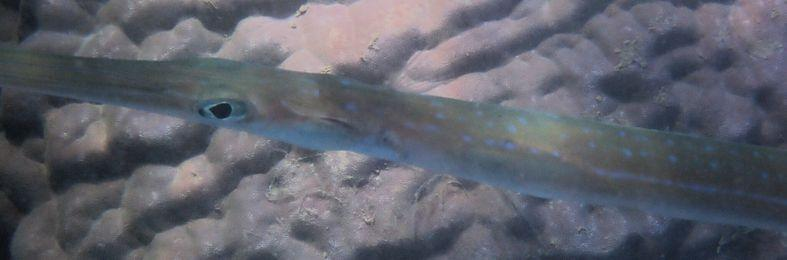Fistularia commersonii: (0, 42, 786, 236)
